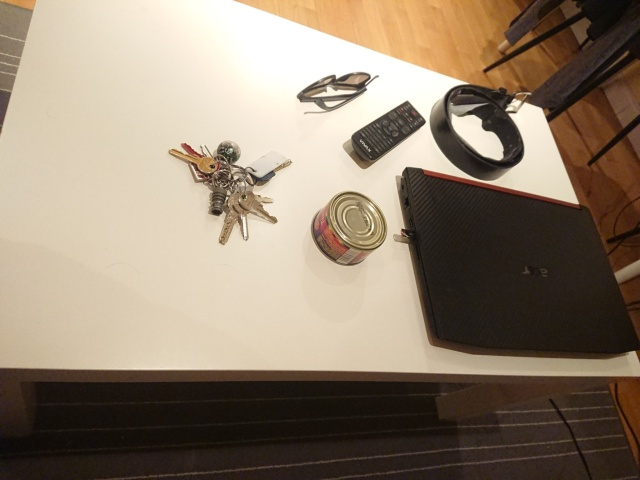Giana Tuna Salad Mexico 185g: (310, 189, 390, 267)
